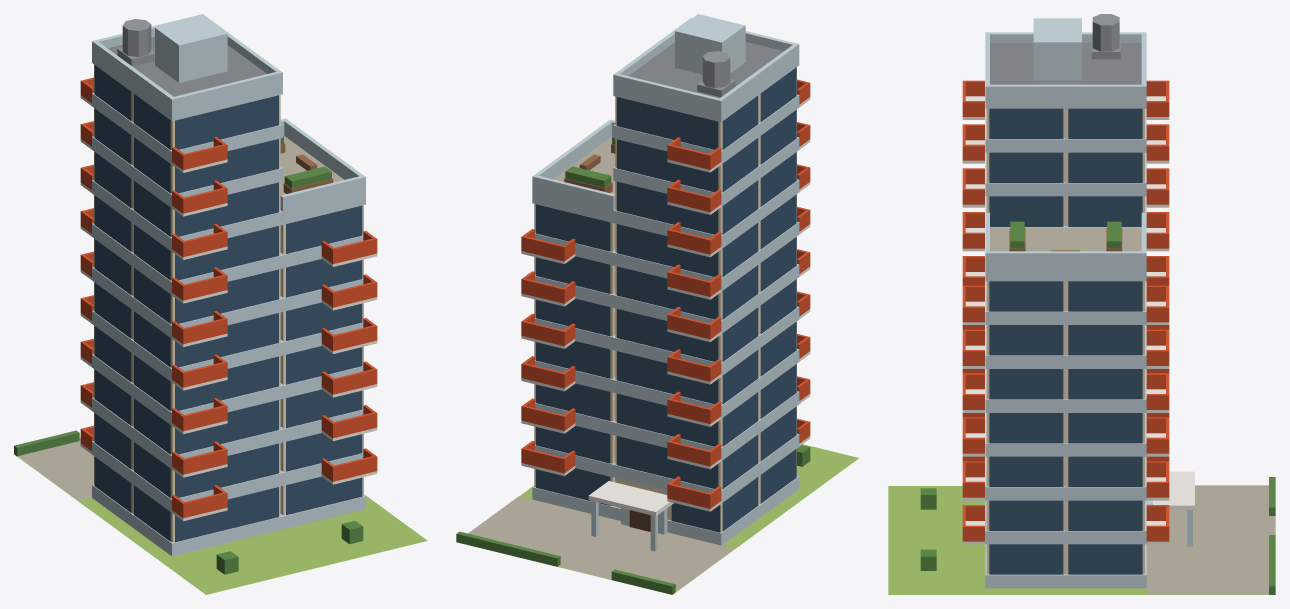
3 renders of one model, left to right at view 1: azimuth 30°, elevation 25°; view 2: azimuth 150°, elevation 25°; view 3: azimuth 270°, elevation 25°, orthographic. The views are drawn at different scales.
Visible parts, largest first — view 1: window_band (×37), spandrel (×19), parapet (×20), lawn, walls (×2), plant_room, forecourt, roof, water_tank, terrace, hedge, planter_plants; view 2: window_band (×37), spandrel (×19), parapet (×21), forecourt, walls (×2), plant_room, lawn, roof, hedge (×2), canopy, water_tank, terrace (+1 smaller); view 3: window_band (×20), spandrel (×11), parapet (×25), forecourt, lawn, roof, walls (×2), plant_room, terrace, canopy, water_tank.
Part boxes in pixels (box(x1,y1,x2,y2)): window_band (×37): box(94, 65, 362, 542); spandrel (×19): box(92, 50, 365, 556); parapet (×20): box(94, 16, 377, 518); lawn: box(17, 456, 427, 594); walls (×2): box(94, 64, 363, 542); plant_room: box(155, 16, 227, 82); forecourt: box(18, 438, 93, 500); roof: box(108, 37, 266, 96); water_tank: box(122, 19, 151, 56); terrace: box(280, 136, 343, 195); hedge: box(14, 430, 79, 456); planter_plants: box(284, 166, 331, 188); window_band (×37): box(536, 67, 796, 532); spandrel (×19): box(532, 53, 799, 545); parapet (×21): box(521, 17, 799, 508); forecourt: box(468, 496, 734, 591); walls (×2): box(534, 67, 796, 532); plant_room: box(675, 14, 745, 74); lawn: box(519, 444, 858, 592); roof: box(628, 42, 783, 98); hedge (×2): box(456, 531, 675, 594); canopy: box(588, 481, 673, 516); water_tank: box(702, 51, 730, 88); terrace: box(553, 136, 615, 194); window_band (×20): box(989, 108, 1142, 574); spandrel (×11): box(985, 95, 1146, 588); parapet (×25): box(962, 32, 1169, 541); forecourt: box(1146, 485, 1275, 594); lawn: box(888, 486, 1268, 594); roof: box(990, 43, 1141, 84); walls (×2): box(986, 108, 1144, 574); plant_room: box(1033, 18, 1081, 80); terrace: box(990, 227, 1141, 251); canopy: box(1153, 471, 1194, 509); water_tank: box(1092, 14, 1119, 51).
Size of the model in its own units: 16 by 33.5 by 24.
